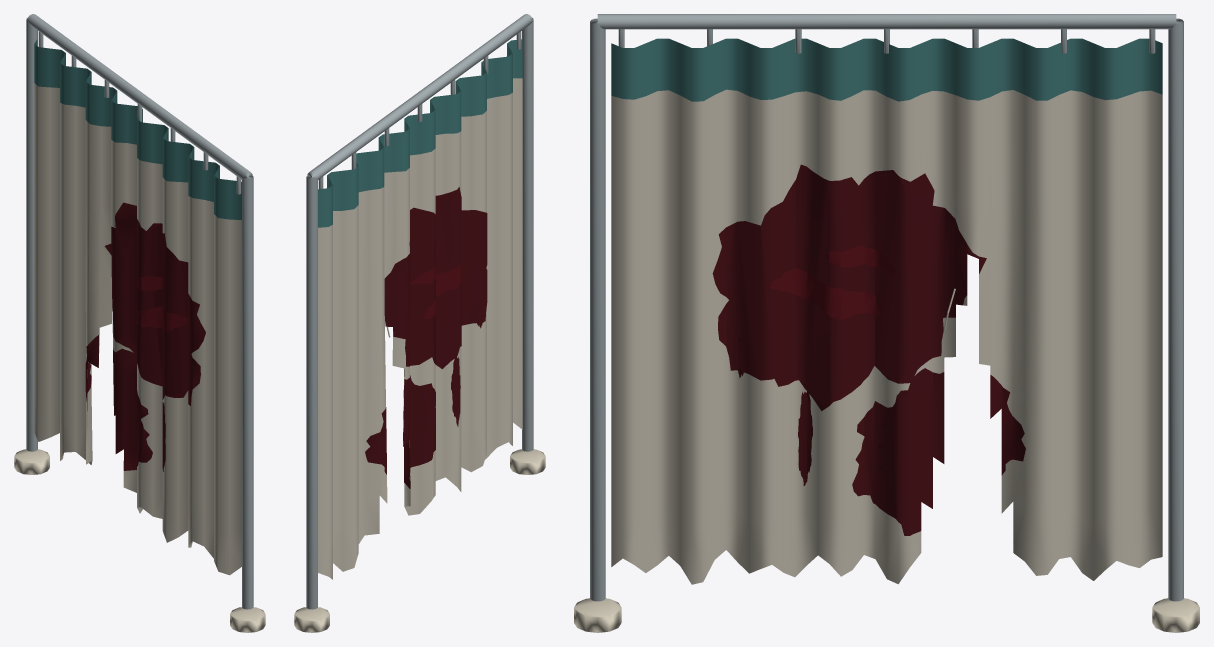
The model's file is privacy_screen.glb.
3 renders of one model, left to right at view 1: azimuth 30°, elevation 25°; view 2: azimuth 150°, elevation 25°; view 3: azimuth 270°, elevation 25°, orthographic. The views are drawn at different scales.
Visible parts, largest first — view 1: OB_PrivacyCurtain_01_Static; view 2: OB_PrivacyCurtain_01_Static; view 3: OB_PrivacyCurtain_01_Static.
Part boxes in pixels (x1,y1,x2,y2): OB_PrivacyCurtain_01_Static: (14, 14, 265, 632); OB_PrivacyCurtain_01_Static: (294, 14, 545, 632); OB_PrivacyCurtain_01_Static: (574, 14, 1199, 632).
Bounding box in the file's own units: 0.14 × 1.97 × 1.84.
